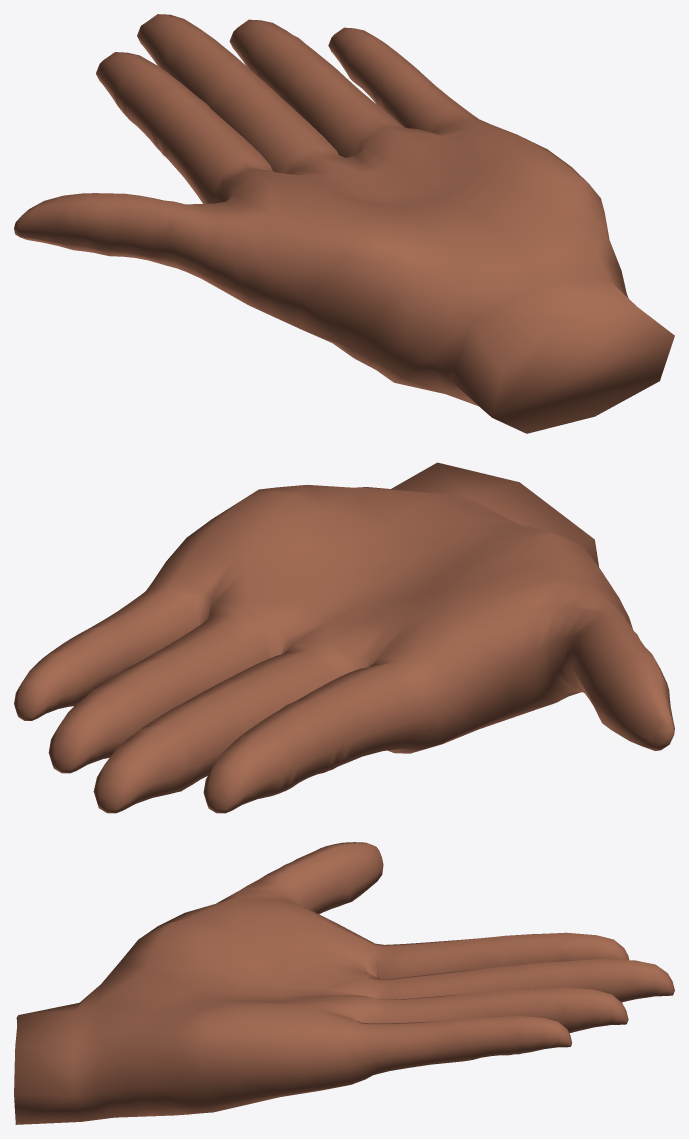
File: hand.obj
The picture shows the model from 3 angles, top to bottom: view 1: azimuth 30°, elevation 25°; view 2: azimuth 150°, elevation 25°; view 3: azimuth 270°, elevation 25°; orthographic projection. The views are drawn at different scales.
Parts seen in each view (by area): view 1: Hand; view 2: Hand; view 3: Hand.
Part boxes in pixels (x1,y1,x2,y2): Hand: (14,14,674,433); Hand: (14,462,674,813); Hand: (14,842,674,1124).
Bounding box in the file's own units: 2.01 × 0.6625 × 2.8.
